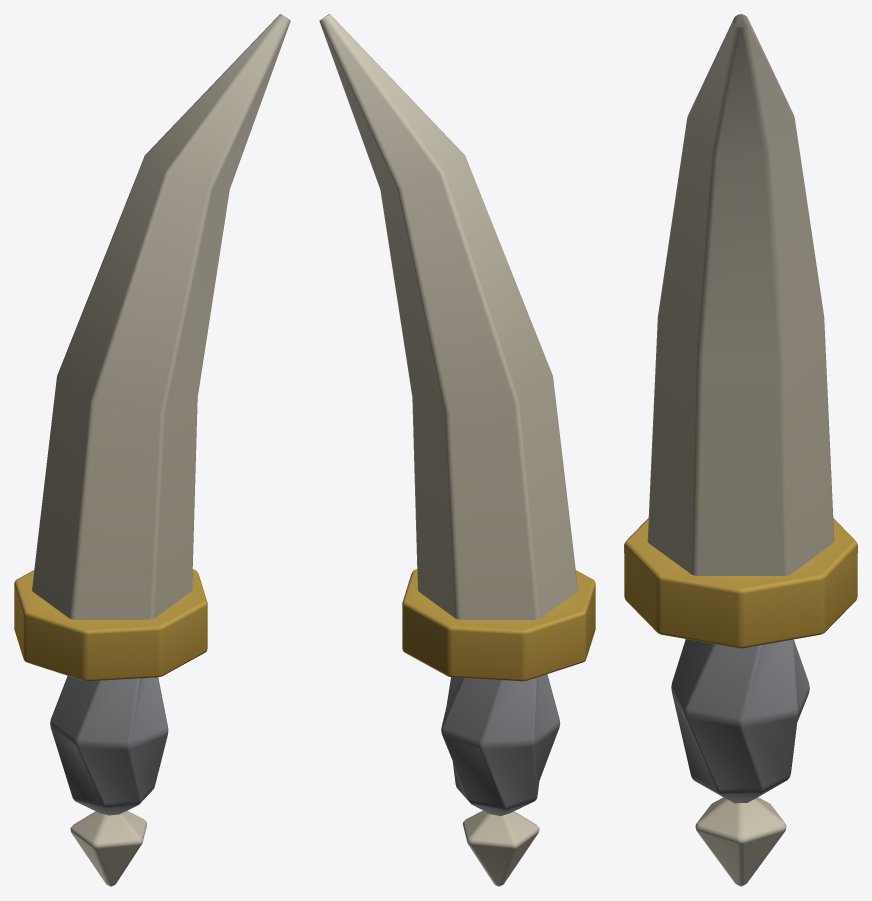
Rendered from alpha_fang.glb.
The picture shows the model from 3 angles, left to right: view 1: azimuth 30°, elevation 25°; view 2: azimuth 150°, elevation 25°; view 3: azimuth 270°, elevation 25°; orthographic projection. The views are drawn at different scales.
Visible parts, largest first — view 1: alpha_fang; view 2: alpha_fang; view 3: alpha_fang.
Part boxes in pixels (left/top/right/bottom): alpha_fang: left=14, top=14, right=290, bottom=886; alpha_fang: left=319, top=14, right=595, bottom=886; alpha_fang: left=624, top=14, right=857, bottom=886.
Bounding box in the file's own units: 0.4872 × 1.46 × 0.3181.
